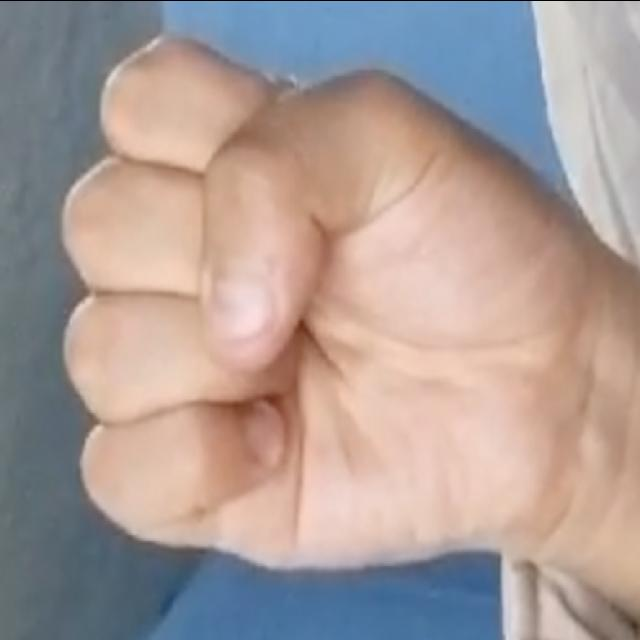S: (48, 26, 596, 584)
